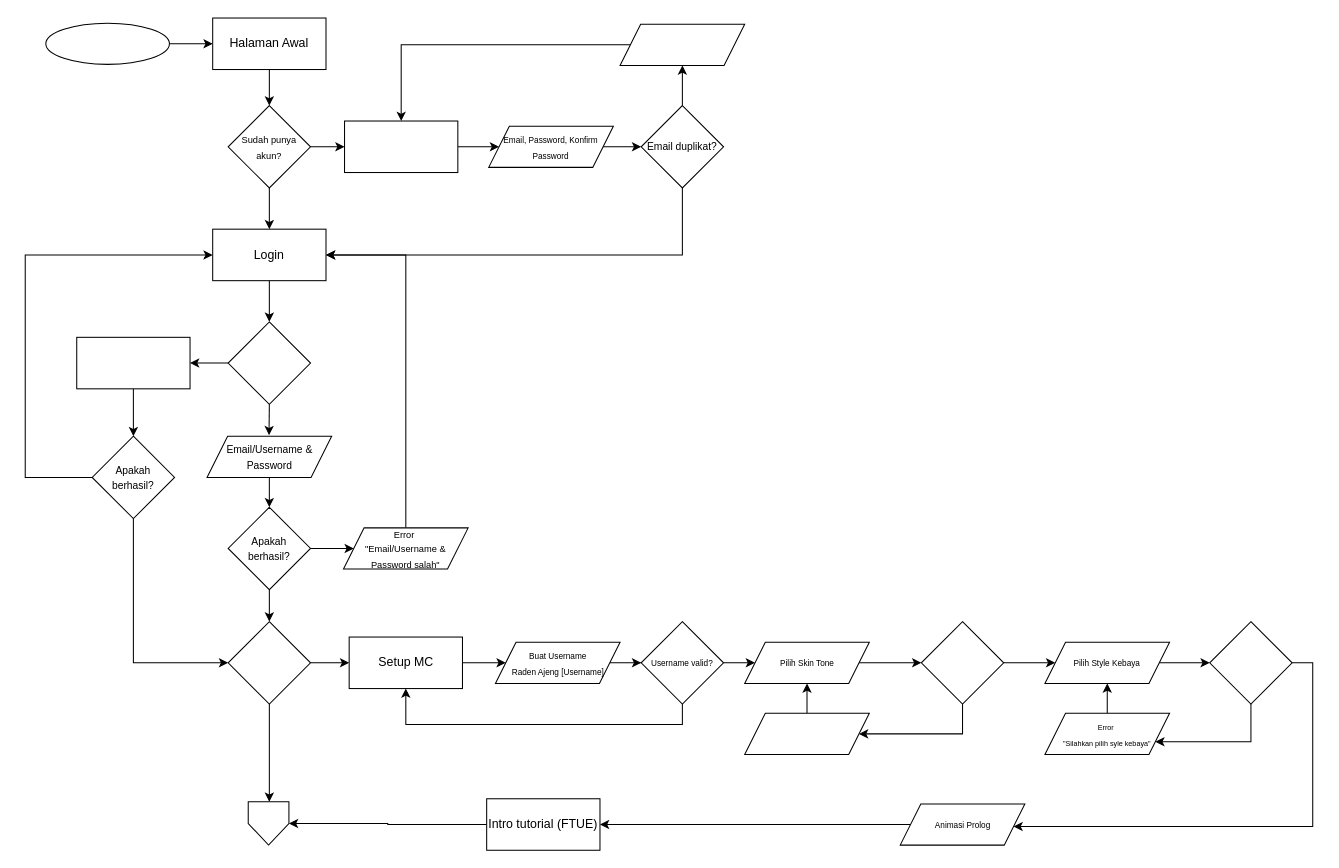
Some shapes in this 1339 by 868 pixel diagram are drawn without their labels. Each missing label, with the centre of its shape:
Error "Email sudah pernah digunakan": (x=682, y=44)
Error "Silahkan pilih skin tone": (x=806, y=733)
Fair/Medium/Tan dipilih?: (x=962, y=662)
Login lewat Google?: (x=269, y=362)
Pemain baru?: (x=269, y=662)
Registrasi: (x=401, y=146)
Sinkronisasi akun google: (x=133, y=362)
START: (x=107, y=43)
Style Kebaya dipilih?: (x=1250, y=662)
